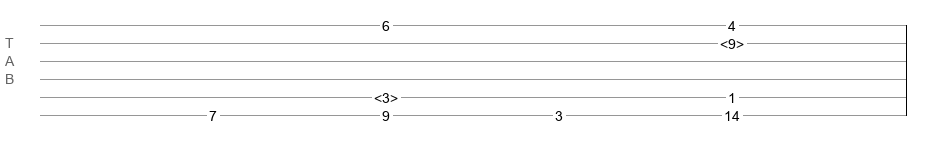1: (728, 90, 736, 100)
14: (724, 108, 740, 118)
3: (555, 108, 563, 118)
4: (728, 18, 736, 28)
6: (382, 18, 390, 28)
7: (209, 108, 217, 118)
9: (382, 108, 390, 118)
harmonic: (374, 90, 398, 100), (720, 36, 744, 46)
